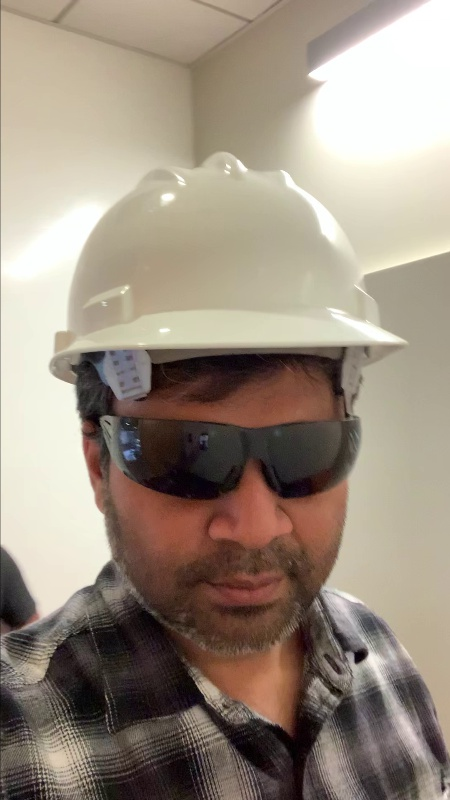glasses: (110, 409, 358, 502)
helmet: (71, 150, 379, 319)
